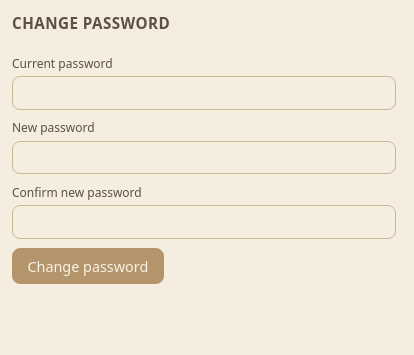
Scenario: ChangePasswordSection › shows the server's error and keeps the form filled when the current password is wrong
This screenshot has width=414, height=355.
In the password field labelled "Current password": [204, 93] box [12,76,396,110], type "wrong password"
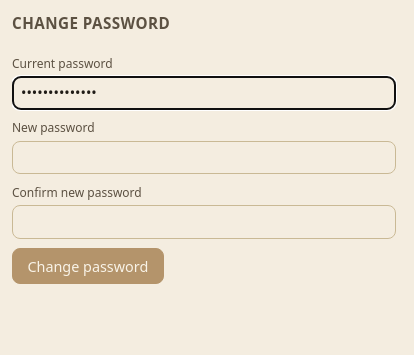
In the password field labelled "New password": [204, 157] box [12,140,396,174], type "new password here"
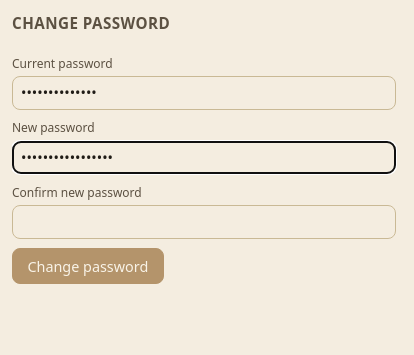
In the password field labelled "Confirm new password": [204, 222] box [12,205,396,239], type "new password here"
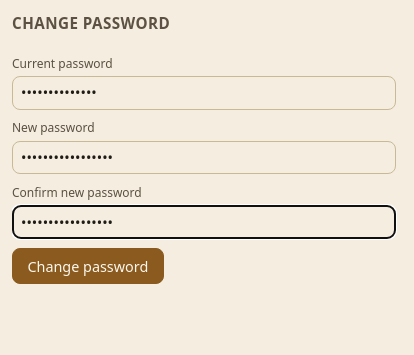
Click the button "Change password": [88, 266] box [12,248,164,284]
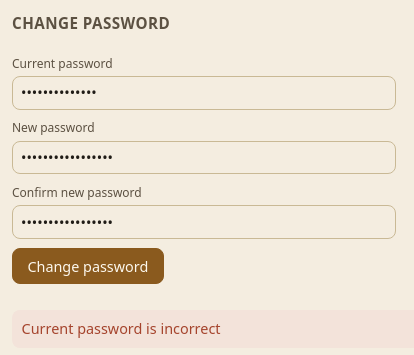
Now the message reads "Current password is incorrect", box [22,319,220,338]
